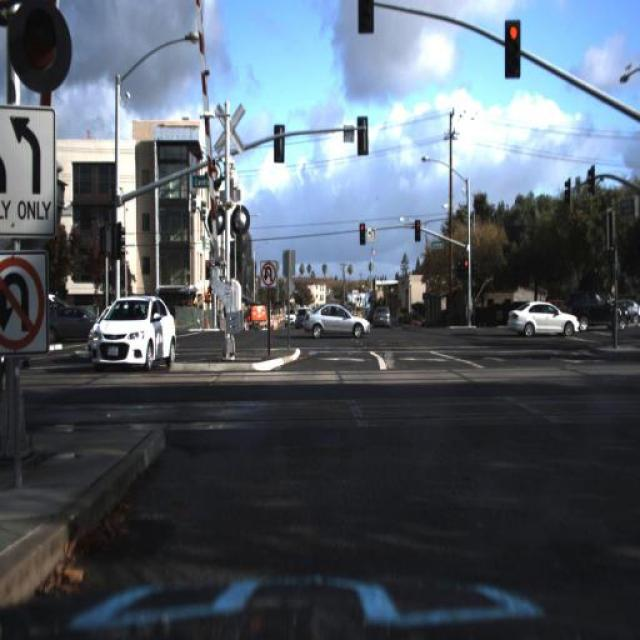car: (94, 294, 178, 374), (502, 294, 582, 342), (36, 302, 110, 352), (299, 299, 371, 336), (571, 288, 629, 332), (300, 302, 372, 336), (364, 302, 402, 328), (289, 299, 317, 333), (366, 302, 390, 334), (295, 305, 313, 329)
trafficLight-Green: (12, 2, 68, 88), (356, 1, 376, 34)
trafficLight-RedLeft: (503, 18, 522, 78), (412, 213, 423, 246), (357, 218, 367, 248), (462, 252, 471, 284), (414, 216, 420, 242)
